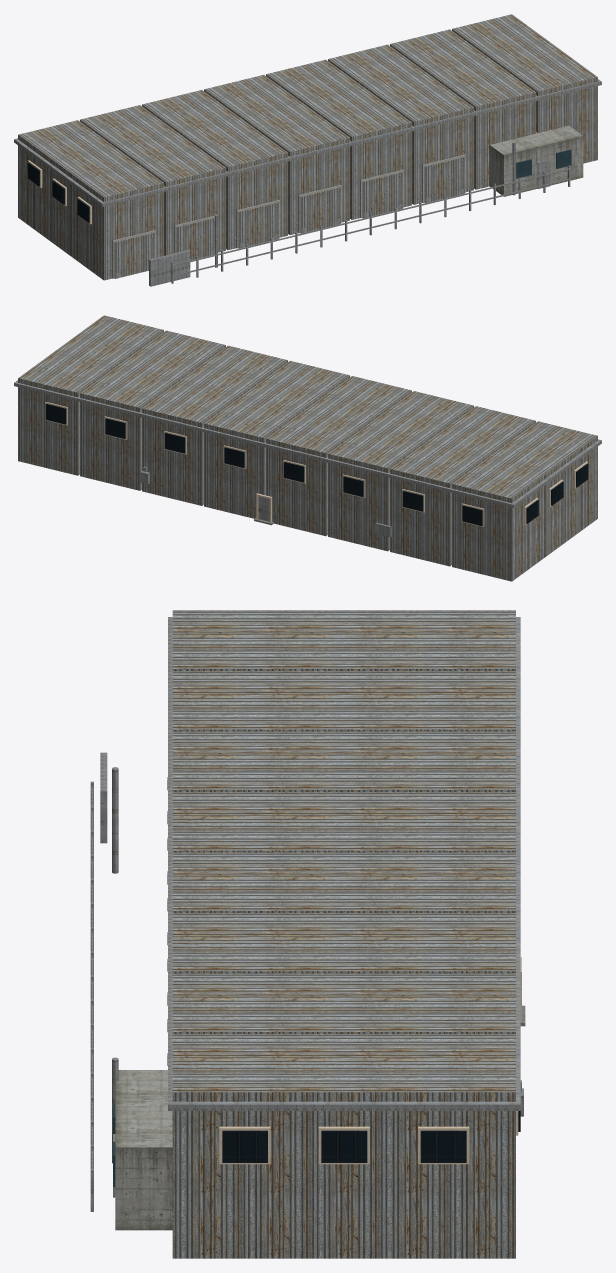
File: ironport-self-storage_lod0.gltf
3 views of the same model, one above another, from view 1: azimuth 30°, elevation 25°; view 2: azimuth 150°, elevation 25°; view 3: azimuth 270°, elevation 25° (orthographic). The views are drawn at different scales.
Visible parts, largest first — view 1: ironport-self-storage_unit0, ironport-self-storage_fen_21-corrugated-steel_1, ironport-self-storage_unit4, ironport-self-storage_unit5, ironport-self-storage_unit3, ironport-self-storage_unit2, ironport-self-storage_unit1, ironport-self-storage_unit7, ironport-self-storage_unit6, ironport-self-storage__office_block, ironport-self-storage__cornice, ironport-self-storage__fence (+3 smaller); view 2: ironport-self-storage_unit0, ironport-self-storage_unit7, ironport-self-storage_unit6, ironport-self-storage_unit1, ironport-self-storage_unit5, ironport-self-storage_unit2, ironport-self-storage_unit3, ironport-self-storage_unit4, ironport-self-storage_fen_07-glass-curtain-blue_6_t, ironport-self-storage__cornice, ironport-self-storage_fen_04-limestone_3, ironport-self-storage_fen_14-steel-panel_2; view 3: ironport-self-storage_unit7, ironport-self-storage_unit0, ironport-self-storage_unit2, ironport-self-storage_unit4, ironport-self-storage_unit6, ironport-self-storage_unit1, ironport-self-storage_unit3, ironport-self-storage_unit5, ironport-self-storage__office_block, ironport-self-storage__cornice, ironport-self-storage_fen_07-glass-curtain-blue_6_t, ironport-self-storage_fen_04-limestone_3 (+1 smaller).
Part boxes in pixels (bbox=[...]): ironport-self-storage_unit0: bbox=[18, 120, 163, 280]; ironport-self-storage_fen_21-corrugated-steel_1: bbox=[114, 157, 464, 278]; ironport-self-storage_unit4: bbox=[266, 59, 411, 219]; ironport-self-storage_unit5: bbox=[328, 44, 473, 204]; ironport-self-storage_unit3: bbox=[204, 75, 349, 234]; ironport-self-storage_unit2: bbox=[142, 90, 287, 250]; ironport-self-storage_unit1: bbox=[80, 105, 225, 255]; ironport-self-storage_unit7: bbox=[452, 14, 597, 163]; ironport-self-storage_unit6: bbox=[390, 29, 535, 189]; ironport-self-storage__office_block: bbox=[489, 125, 583, 196]; ironport-self-storage__cornice: bbox=[14, 79, 601, 206]; ironport-self-storage__fence: bbox=[171, 165, 570, 283]; ironport-self-storage_unit0: bbox=[452, 421, 597, 581]; ironport-self-storage_unit7: bbox=[18, 315, 163, 475]; ironport-self-storage_unit6: bbox=[80, 330, 225, 490]; ironport-self-storage_unit1: bbox=[390, 406, 535, 566]; ironport-self-storage_unit5: bbox=[142, 345, 287, 505]; ironport-self-storage_unit2: bbox=[328, 391, 473, 551]; ironport-self-storage_unit3: bbox=[266, 376, 411, 536]; ironport-self-storage_unit4: bbox=[204, 360, 349, 518]; ironport-self-storage_fen_07-glass-curtain-blue_6_t: bbox=[45, 404, 588, 525]; ironport-self-storage__cornice: bbox=[14, 380, 601, 507]; ironport-self-storage_fen_04-limestone_3: bbox=[45, 402, 587, 527]; ironport-self-storage_fen_14-steel-panel_2: bbox=[140, 466, 391, 537]; ironport-self-storage_unit7: bbox=[172, 1034, 515, 1258]; ironport-self-storage_unit0: bbox=[172, 610, 515, 670]; ironport-self-storage_unit2: bbox=[172, 731, 515, 791]; ironport-self-storage_unit4: bbox=[172, 852, 515, 912]; ironport-self-storage_unit6: bbox=[172, 973, 515, 1033]; ironport-self-storage_unit1: bbox=[172, 671, 515, 731]; ironport-self-storage_unit3: bbox=[172, 792, 515, 852]; ironport-self-storage_unit5: bbox=[172, 913, 515, 973]; ironport-self-storage__office_block: bbox=[115, 1070, 172, 1230]; ironport-self-storage__cornice: bbox=[168, 617, 520, 1110]; ironport-self-storage_fen_07-glass-curtain-blue_6_t: bbox=[222, 1111, 520, 1162]; ironport-self-storage_fen_04-limestone_3: bbox=[219, 957, 521, 1164].
Bounding box in the file's own units: 50.4 × 8 × 18.97.
